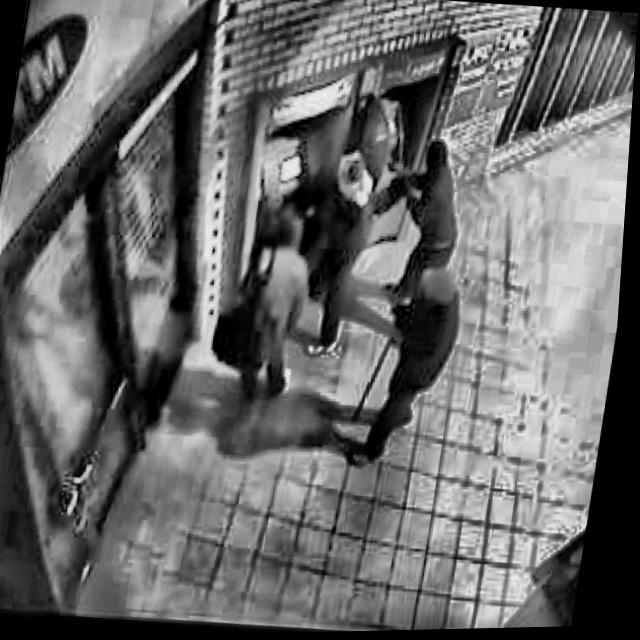burglary: (196, 62, 500, 480)
